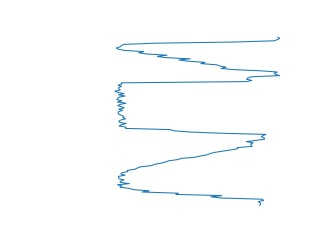distributaryChannelFill: (110, 73, 271, 142)
mouthBar: (114, 33, 284, 77)
underwaterDistributaryChannel: (114, 137, 267, 207)
